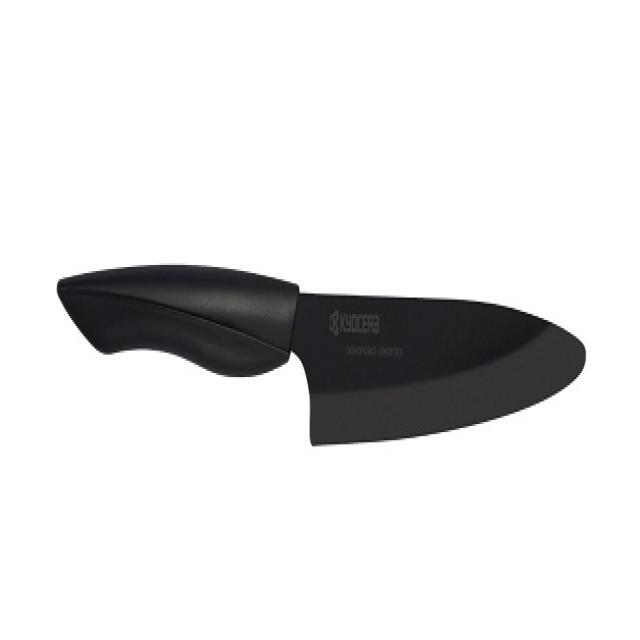Dry Waste: (272, 204, 600, 531)
